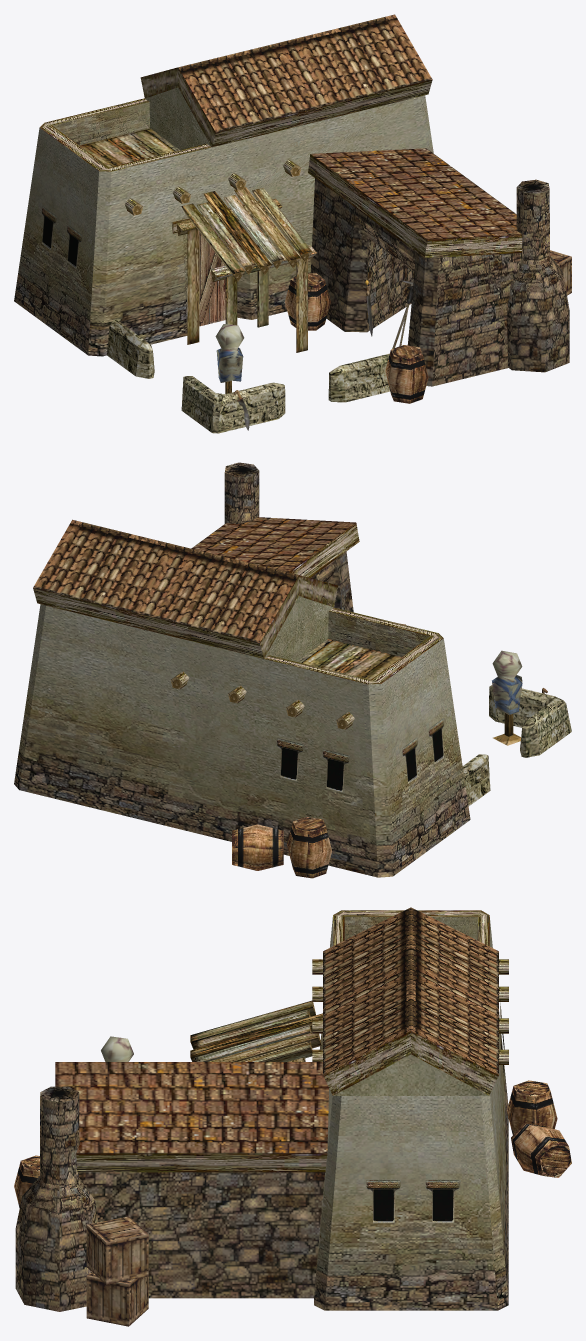
File: iber_barracks.dae
The picture shows the model from 3 angles, top to bottom: view 1: azimuth 30°, elevation 25°; view 2: azimuth 150°, elevation 25°; view 3: azimuth 270°, elevation 25°; orthographic projection. The views are drawn at different scales.
Parts seen in each view (by area): view 1: Spear03; view 2: Spear03; view 3: Spear03.
Boxes of the visible parts, x1,y1,x2,y2 form: Spear03: [14, 14, 571, 433]; Spear03: [14, 462, 571, 878]; Spear03: [14, 907, 571, 1326].
Bounding box in the file's own units: 16.95 × 17.94 × 9.84.
